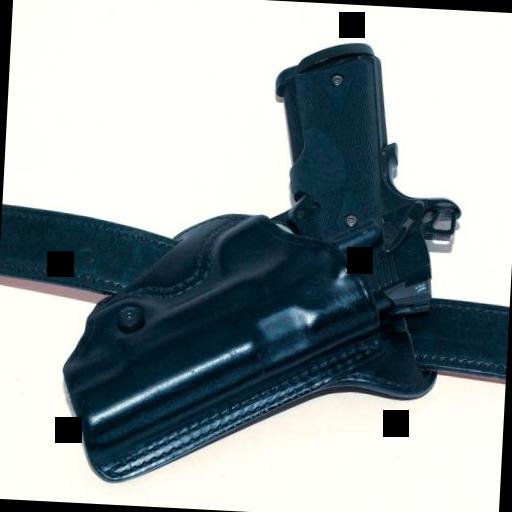Handgun: (36, 22, 470, 488)
